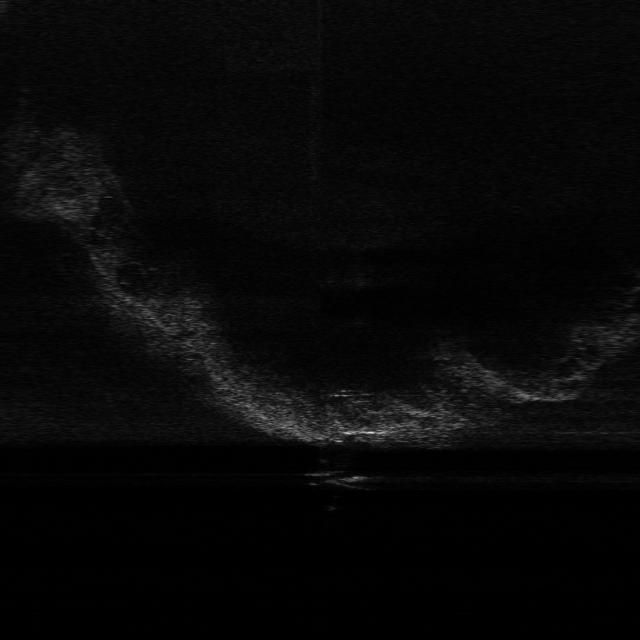plane: (301, 467, 383, 491)
